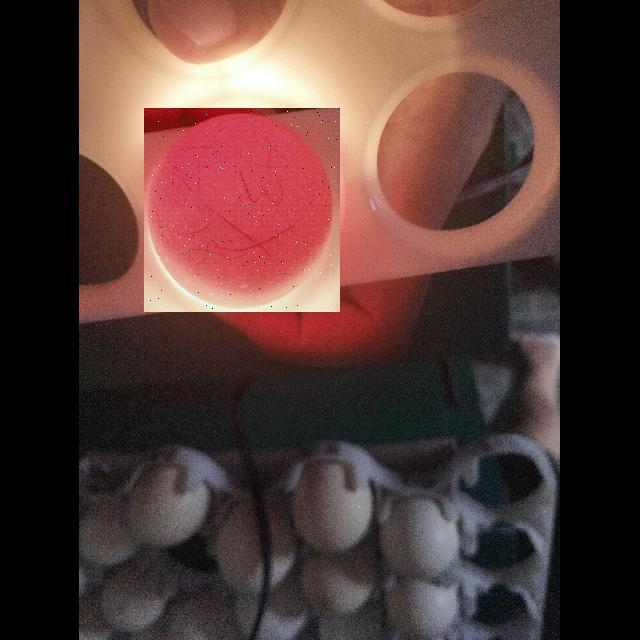Infertile: (144, 108, 340, 312)
